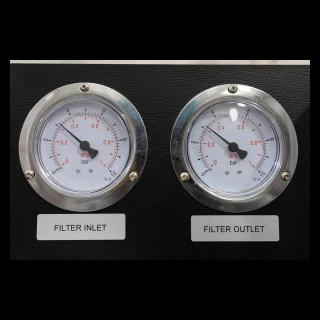gauge: (170, 83, 308, 214), (10, 83, 144, 213), (251, 164, 265, 178), (52, 162, 64, 176), (104, 165, 116, 177), (202, 165, 214, 177), (79, 140, 89, 151), (228, 141, 238, 151), (202, 123, 210, 129), (56, 121, 62, 127)
